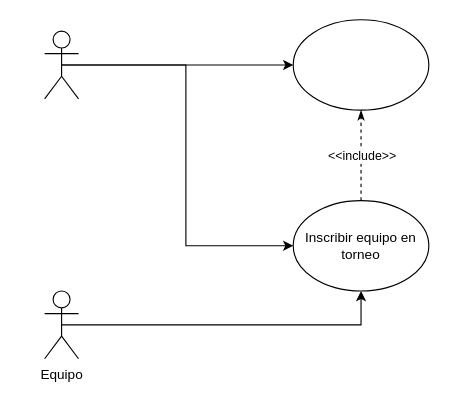
Some shapes in this 449 by 402 pixel diagram are drawn without their labels. Each missing label, with the centre of its shape:
"Administrador" goes at (x=61, y=64).
"Registrar un equipo" goes at (x=360, y=64).
